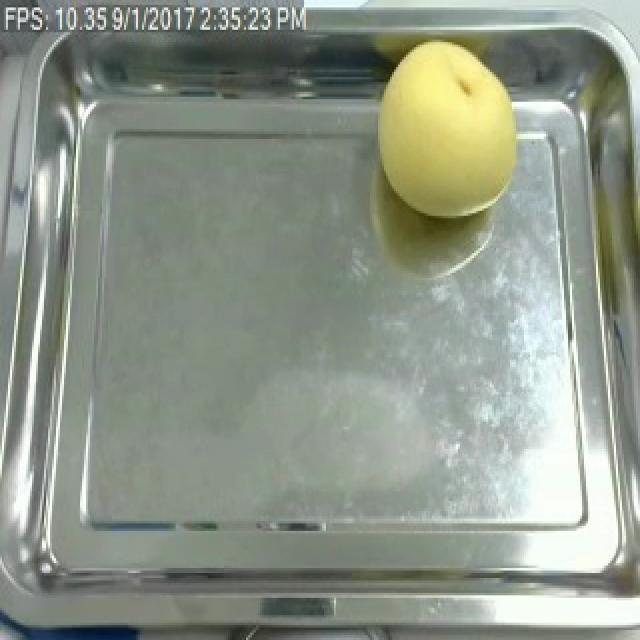Fruit: (366, 32, 530, 226)
